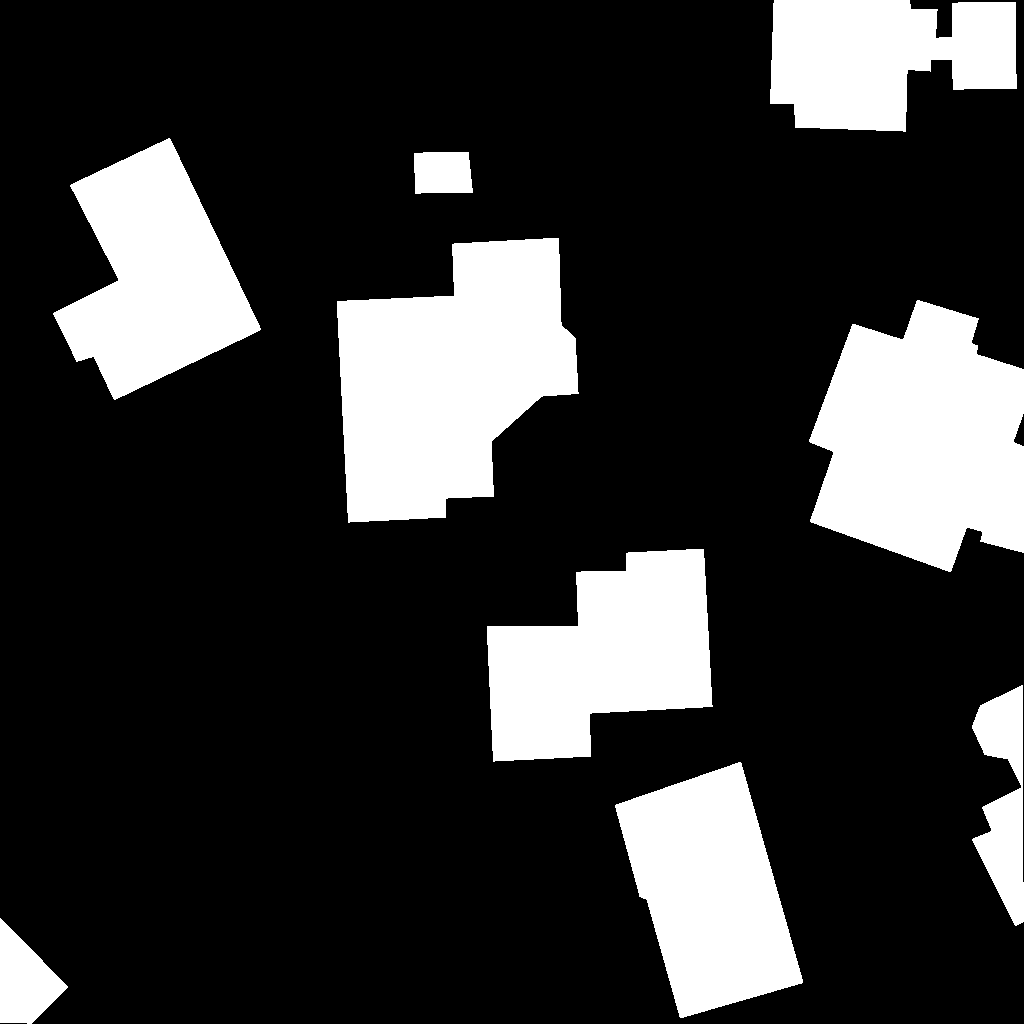building: (337, 238, 579, 523), (809, 300, 1024, 573), (53, 138, 262, 401), (615, 762, 804, 1019), (487, 549, 713, 762), (770, 0, 1017, 132), (972, 685, 1024, 927), (0, 918, 69, 1024), (414, 152, 474, 194)
